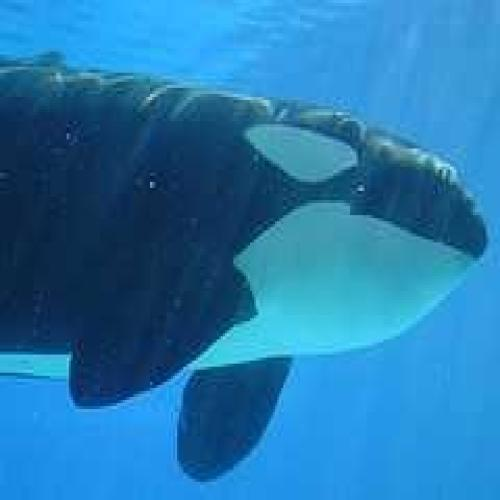killer_whale-endangered: (1, 36, 488, 388)
